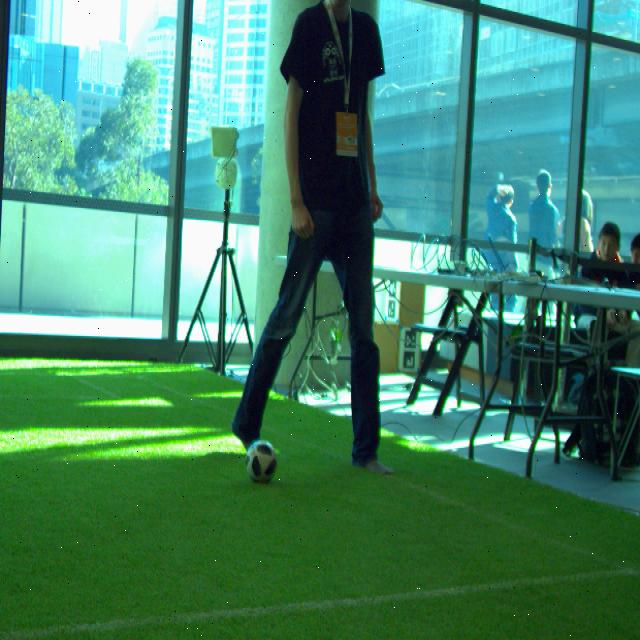ball: (245, 439, 278, 485)
